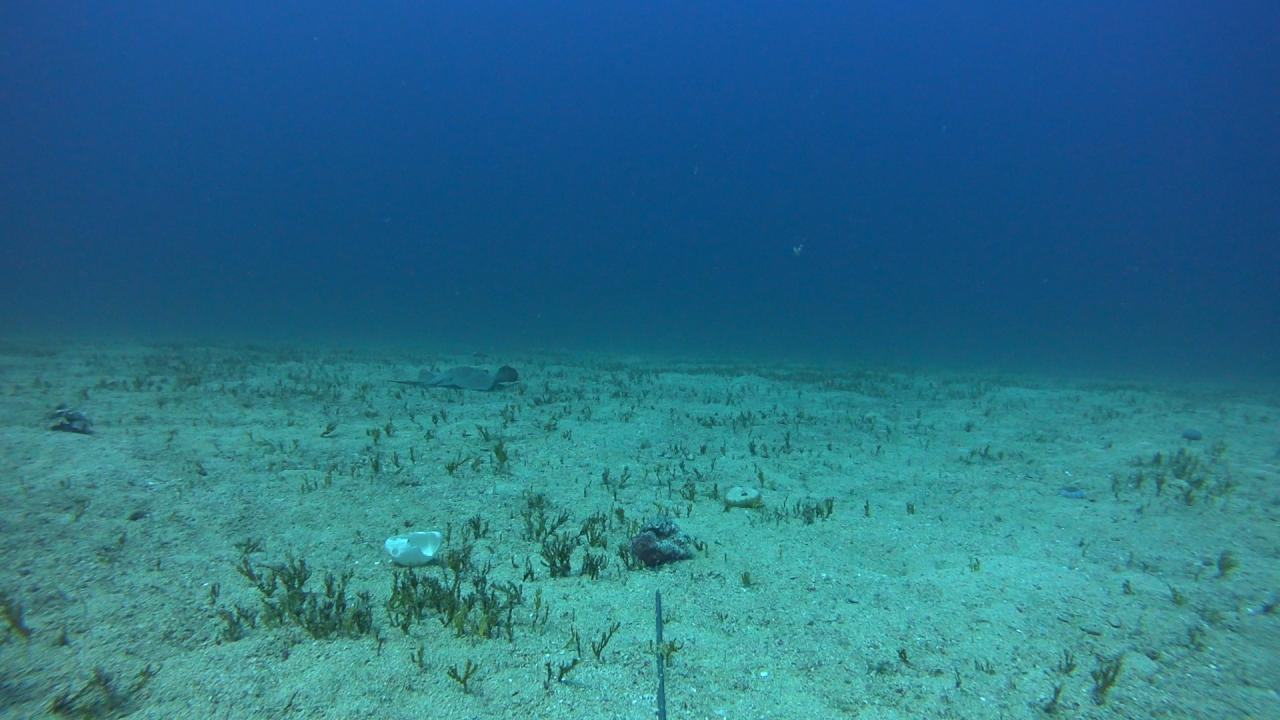dasyatis: (385, 364, 517, 391)
